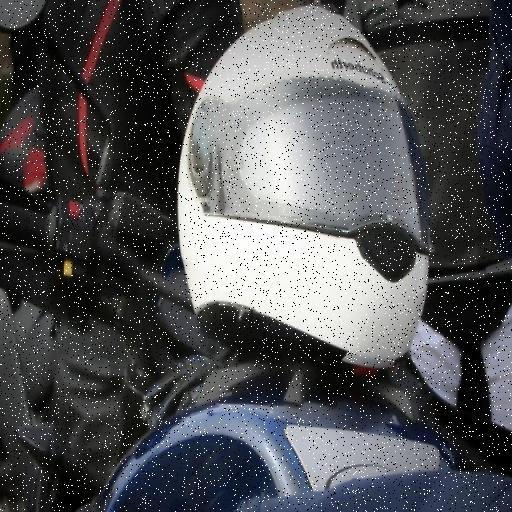Helmet: (167, 11, 434, 385)
